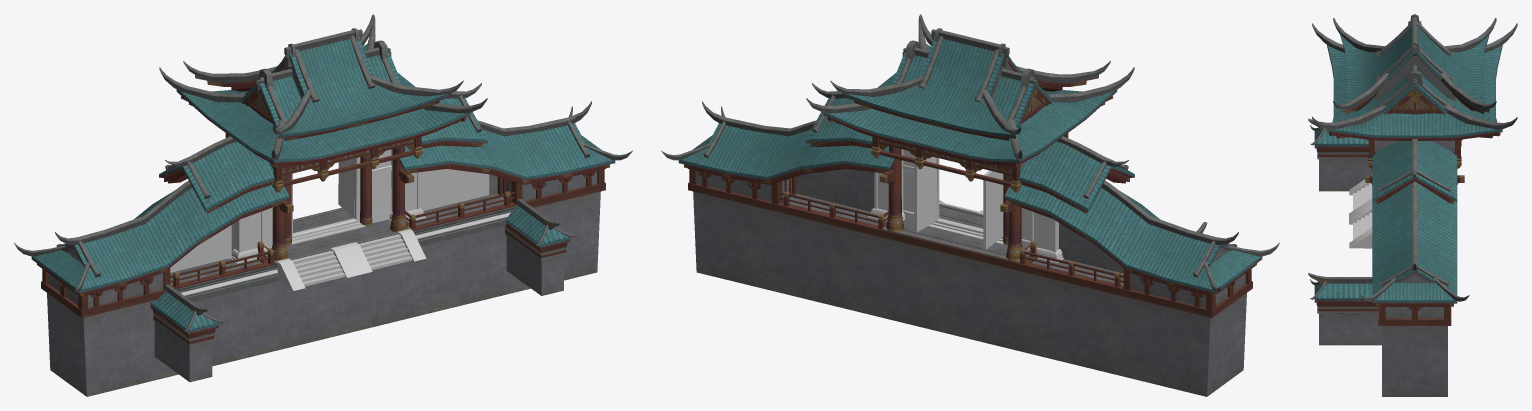
The model's file is Demo_door_001_lod1.FBX.
3 renders of one model, left to right at view 1: azimuth 30°, elevation 25°; view 2: azimuth 150°, elevation 25°; view 3: azimuth 270°, elevation 25°, orthographic. The views are drawn at different scales.
Parts seen in each view (by area): view 1: Demo_door_001_LOD1; view 2: Demo_door_001_LOD1; view 3: Demo_door_001_LOD1.
Boxes of the visible parts, left/top/right/bottom form: Demo_door_001_LOD1: left=14, top=14, right=632, bottom=396; Demo_door_001_LOD1: left=661, top=14, right=1279, bottom=396; Demo_door_001_LOD1: left=1308, top=14, right=1517, bottom=396.
Size of the model in its own units: 5410 by 2634 by 1955.
